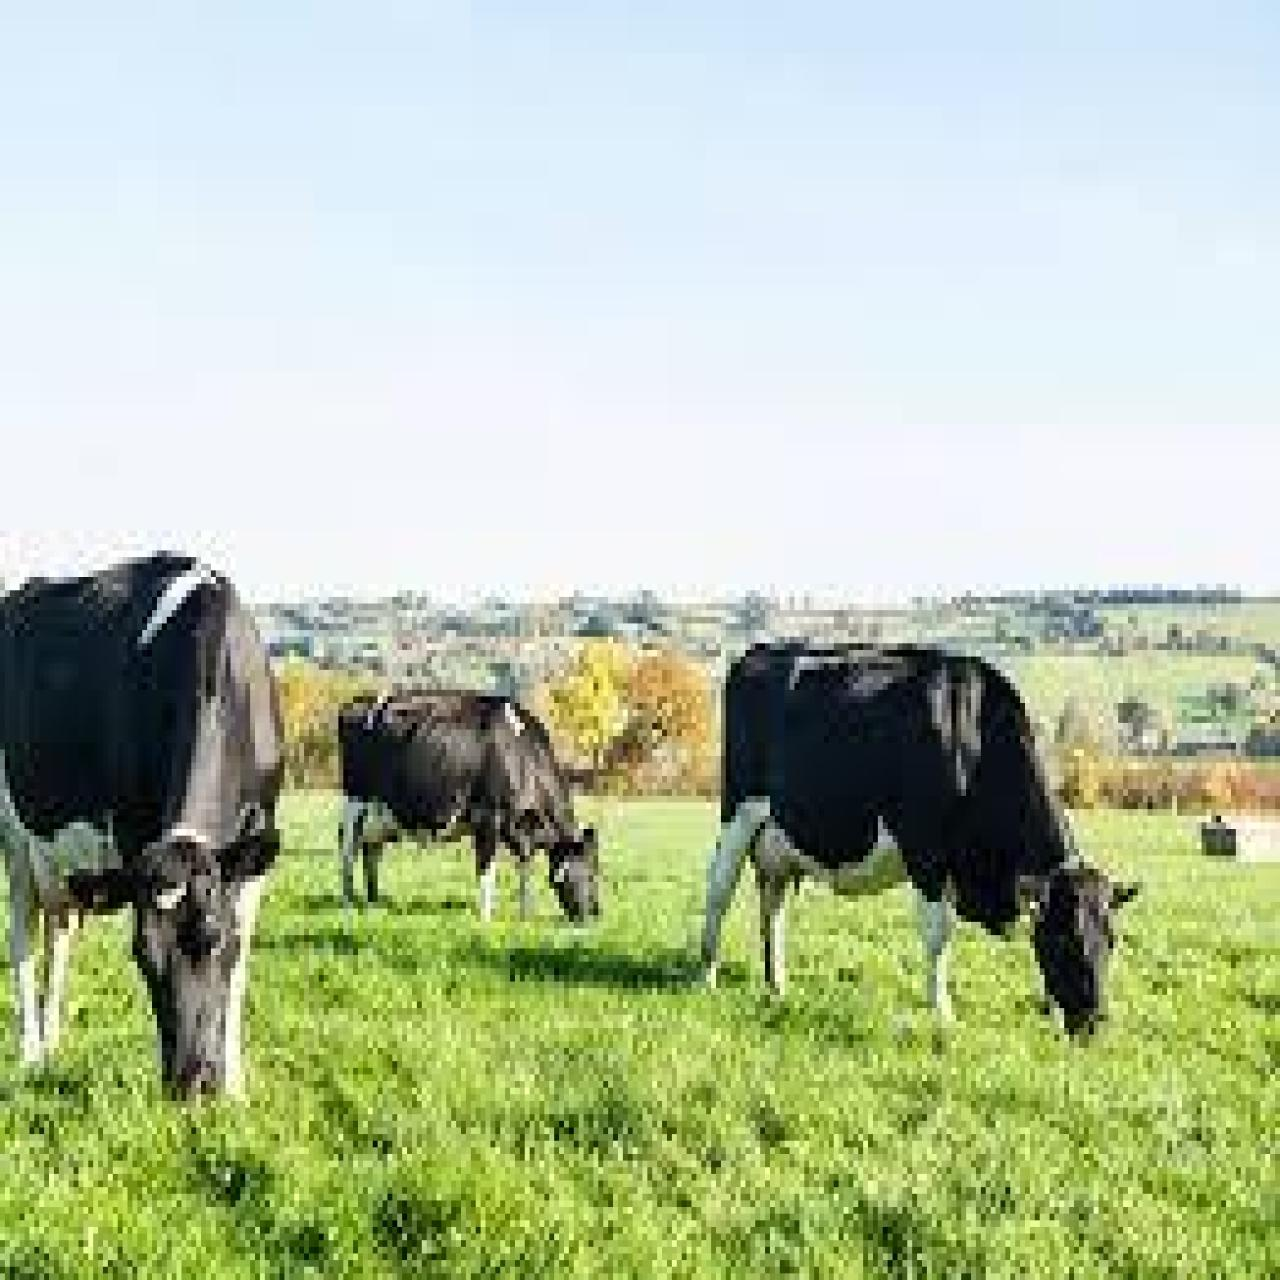cow: (701, 640, 1148, 1044), (2, 551, 292, 1115), (336, 687, 606, 926)
